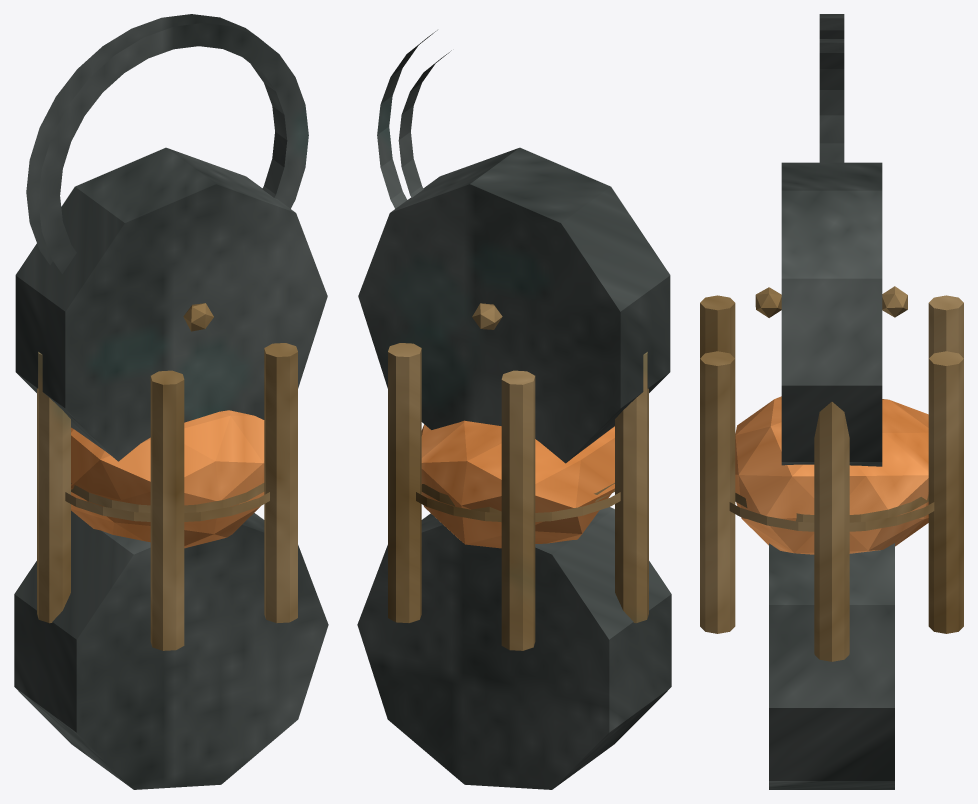
File: 0903_lantern_03.glb
3 renders of one model, left to right at view 1: azimuth 30°, elevation 25°; view 2: azimuth 150°, elevation 25°; view 3: azimuth 270°, elevation 25°, orthographic.
Visible parts, largest first — view 1: iron, brass, amber; view 2: iron, brass, amber; view 3: iron, brass, amber.
Boxes of the visible parts, x1=… form: iron: x1=14, y1=14, x2=328, y2=789; brass: x1=37, y1=303, x2=297, y2=650; amber: x1=71, y1=410, x2=264, y2=548; iron: x1=357, y1=30, x2=671, y2=789; brass: x1=388, y1=303, x2=648, y2=650; amber: x1=421, y1=420, x2=614, y2=548; iron: x1=769, y1=14, x2=894, y2=789; brass: x1=700, y1=286, x2=963, y2=661; amber: x1=735, y1=396, x2=928, y2=554.
Bounding box in the file's own units: 0.5 × 1.32 × 0.4197.
3 materials, 3 textured.
